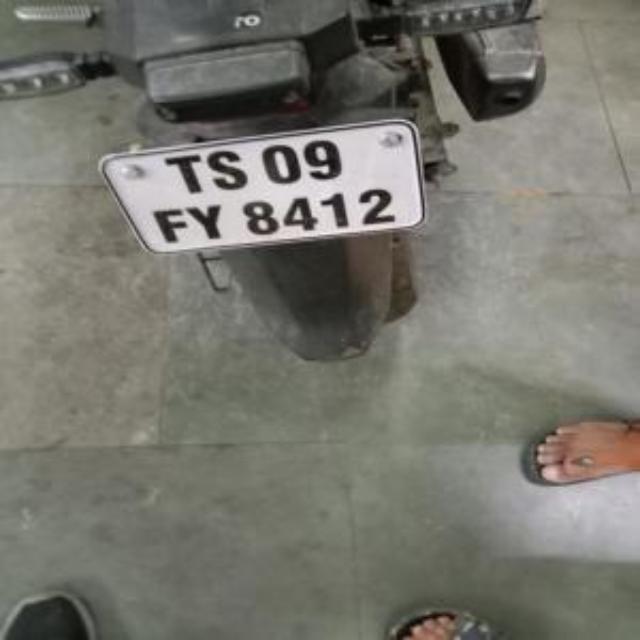License Plate: (119, 126, 414, 255)
